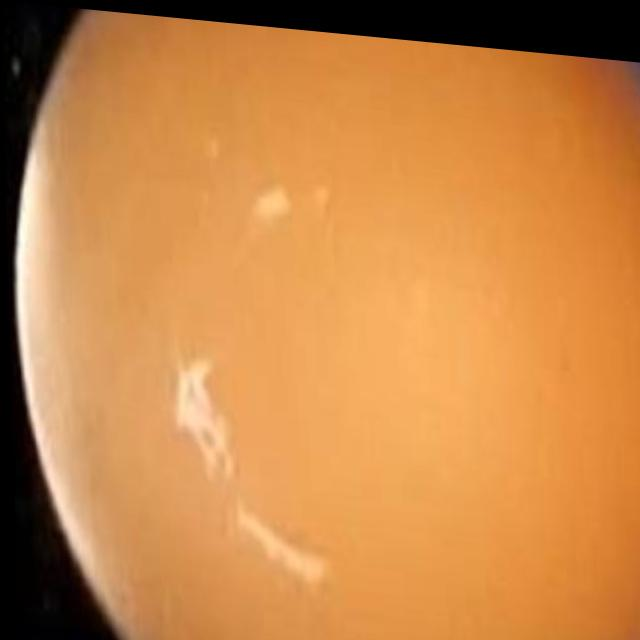fresh: (2, 0, 640, 640)
